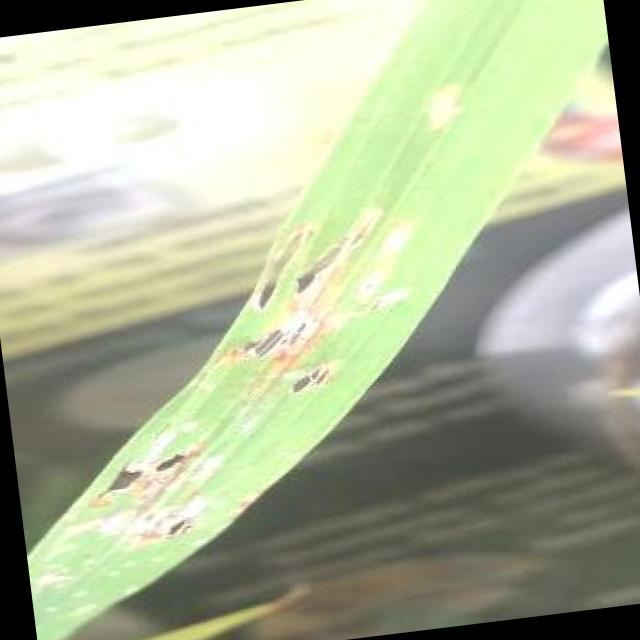Rice_Blast: (248, 206, 388, 310), (90, 394, 207, 511), (106, 477, 222, 594), (225, 300, 332, 370), (258, 350, 348, 414)
